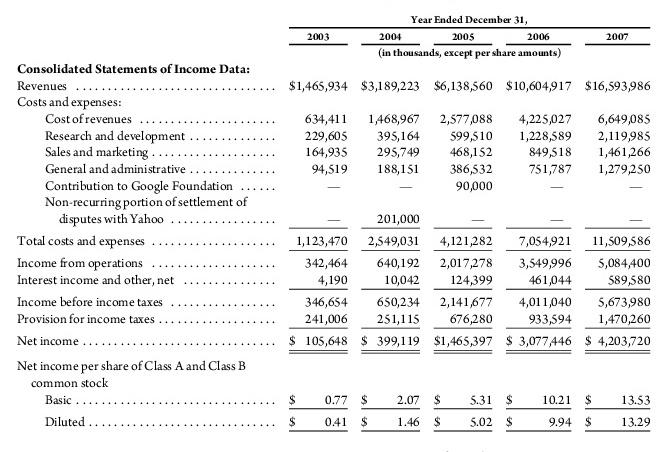table: (0, 0, 668, 452)
